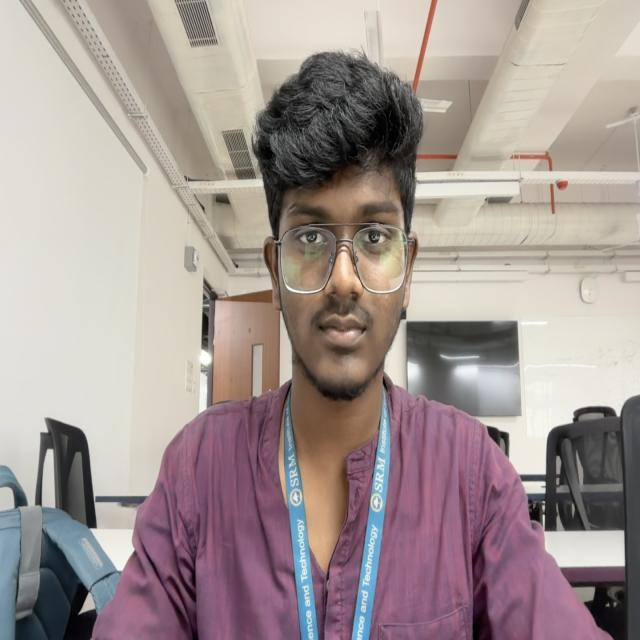ravindra: (252, 49, 425, 406)
